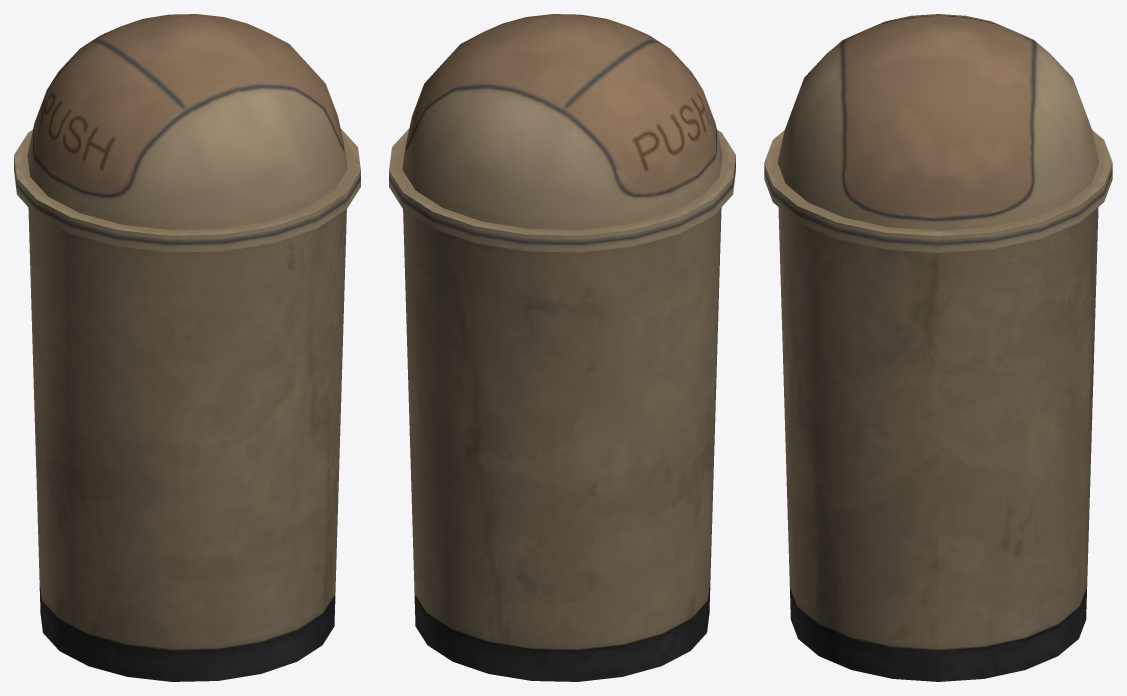
Rendered from HH_Urn_02.fbx.
3 renders of one model, left to right at view 1: azimuth 30°, elevation 25°; view 2: azimuth 150°, elevation 25°; view 3: azimuth 270°, elevation 25°, orthographic.
Parts seen in each view (by area): view 1: HH_Urn_02_LOD0; view 2: HH_Urn_02_LOD0; view 3: HH_Urn_02_LOD0.
Boxes of the visible parts, bbox=[...] form: HH_Urn_02_LOD0: bbox=[14, 14, 360, 681]; HH_Urn_02_LOD0: bbox=[389, 14, 735, 681]; HH_Urn_02_LOD0: bbox=[764, 14, 1112, 681].
Size of what is drawn, in the model's own units: 43.98 by 81.83 by 43.98.
